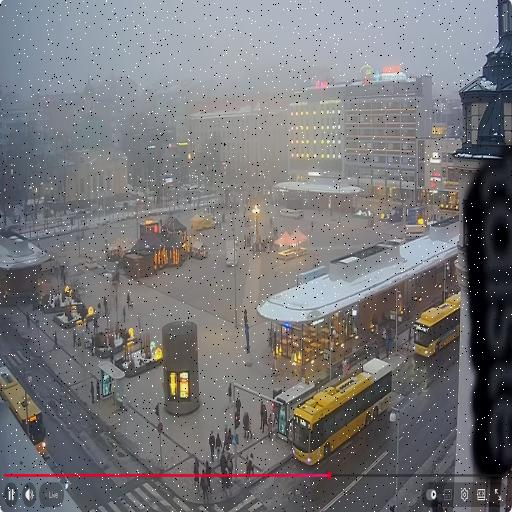Bus: (293, 358, 391, 464), (0, 366, 46, 454), (413, 292, 460, 355), (419, 218, 422, 220)
